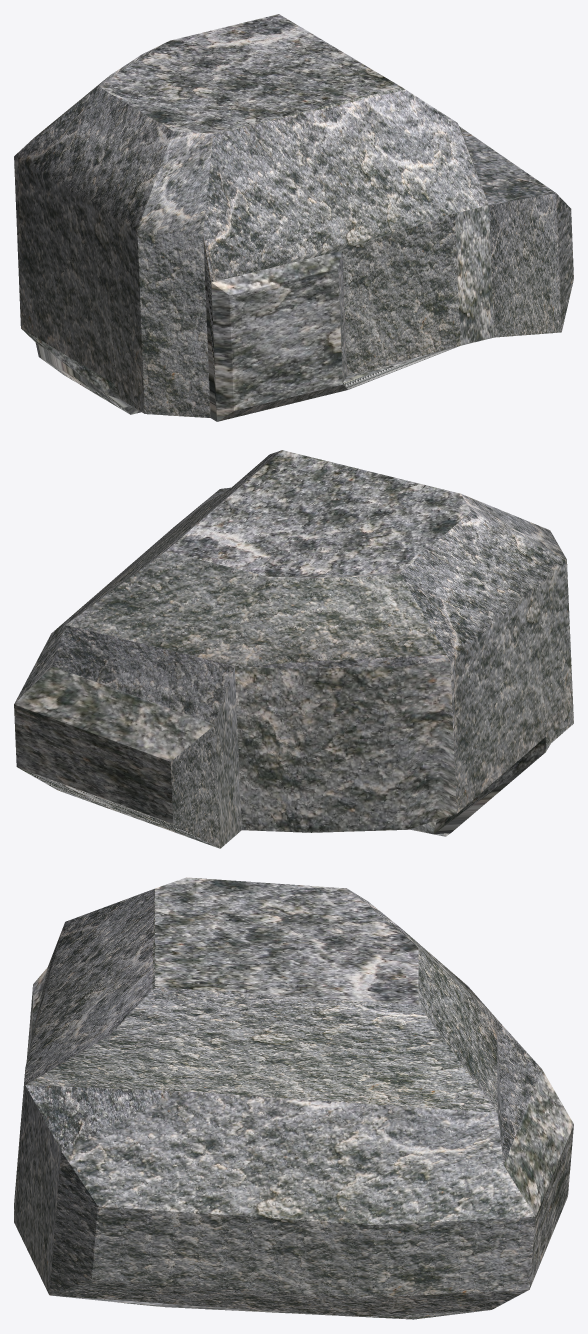
The model's file is stone.FBX.
3 renders of one model, top to bottom at view 1: azimuth 30°, elevation 25°; view 2: azimuth 150°, elevation 25°; view 3: azimuth 270°, elevation 25°, orthographic. The views are drawn at different scales.
Visible parts, largest first — view 1: pCube2; view 2: pCube2; view 3: pCube2.
Part boxes in pixels (bbox=[...]): pCube2: bbox=[14, 14, 573, 421]; pCube2: bbox=[14, 450, 573, 848]; pCube2: bbox=[14, 877, 573, 1319].
Size of the model in its own units: 0.4803 by 0.3219 by 0.5086.
Materials: 1 (1 with a texture image).
